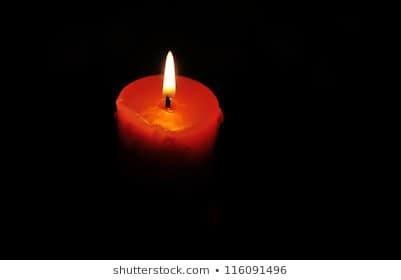fire: (159, 46, 177, 98)
